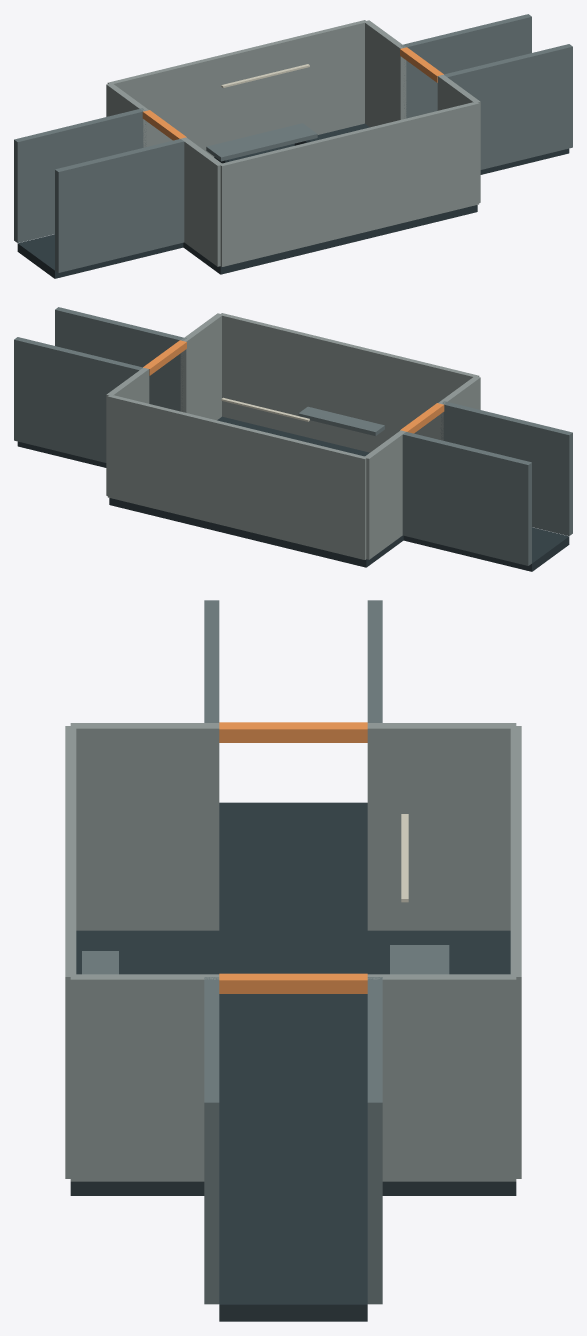
File: booth.glb
The picture shows the model from 3 angles, top to bottom: view 1: azimuth 30°, elevation 25°; view 2: azimuth 150°, elevation 25°; view 3: azimuth 270°, elevation 25°; orthographic projection. The views are drawn at different scales.
Visible parts, largest first — view 1: back_wall, console_wall, corridor_wall_-1_1.1, corridor_wall_1_1.1, corridor_wall_-1_-1.1, corridor_wall_1_-1.1, wall_-1_2, wall_1_-2, floor, desk_top, corridor_floor_-1, wall_1_2 (+5 smaller); view 2: console_wall, back_wall, corridor_wall_-1_-1.1, corridor_wall_1_-1.1, corridor_wall_-1_1.1, corridor_wall_1_1.1, wall_-1_-2, wall_1_2, floor, corridor_floor_-1, rear_shelf, wall_1_-2 (+5 smaller); view 3: floor, wall_-1_2, wall_-1_-2, wall_1_2, wall_1_-2, corridor_floor_1, corridor_floor_-1, corridor_wall_1_-1.1, corridor_wall_1_1.1, console_wall, back_wall, lintel_-1 (+5 smaller).
Part boxes in pixels (left/top/right/bottom): back_wall: left=220, top=101, right=479, bottom=266; console_wall: left=107, top=20, right=366, bottom=157; corridor_wall_-1_1.1: left=55, top=139, right=184, bottom=272; corridor_wall_1_1.1: left=444, top=44, right=572, bottom=169; corridor_wall_-1_-1.1: left=14, top=108, right=146, bottom=242; corridor_wall_1_-1.1: left=400, top=14, right=531, bottom=118; wall_-1_2: left=181, top=137, right=221, bottom=266; wall_1_-2: left=364, top=20, right=406, bottom=127; floor: left=183, top=123, right=477, bottom=274; desk_top: left=206, top=123, right=317, bottom=161; corridor_floor_-1: left=17, top=234, right=183, bottom=278; wall_1_2: left=437, top=74, right=480, bottom=202; console_wall: left=107, top=394, right=367, bottom=559; back_wall: left=219, top=313, right=479, bottom=452; corridor_wall_-1_-1.1: left=402, top=432, right=531, bottom=565; corridor_wall_1_-1.1: left=14, top=337, right=142, bottom=462; corridor_wall_-1_1.1: left=440, top=401, right=572, bottom=535; corridor_wall_1_1.1: left=55, top=307, right=186, bottom=411; wall_-1_-2: left=365, top=430, right=405, bottom=559; wall_1_2: left=180, top=313, right=221, bottom=420; floor: left=109, top=416, right=403, bottom=567; corridor_floor_-1: left=403, top=527, right=569, bottom=571; rear_shelf: left=298, top=406, right=384, bottom=435; wall_1_-2: left=106, top=367, right=149, bottom=495; floor: left=70, top=928, right=516, bottom=1195; wall_-1_2: left=70, top=723, right=219, bottom=930; wall_-1_-2: left=367, top=723, right=516, bottom=930; wall_1_2: left=70, top=974, right=219, bottom=1181; wall_1_-2: left=367, top=974, right=516, bottom=1181; corridor_floor_1: left=219, top=1179, right=367, bottom=1321; corridor_floor_-1: left=219, top=802, right=367, bottom=928; corridor_wall_1_-1.1: left=367, top=977, right=382, bottom=1304; corridor_wall_1_1.1: left=204, top=977, right=219, bottom=1304; console_wall: left=510, top=726, right=521, bottom=1178; back_wall: left=65, top=726, right=76, bottom=1178; lintel_-1: left=219, top=722, right=367, bottom=742.
Size of the model in its own units: 16 by 3.26 by 6.15.
